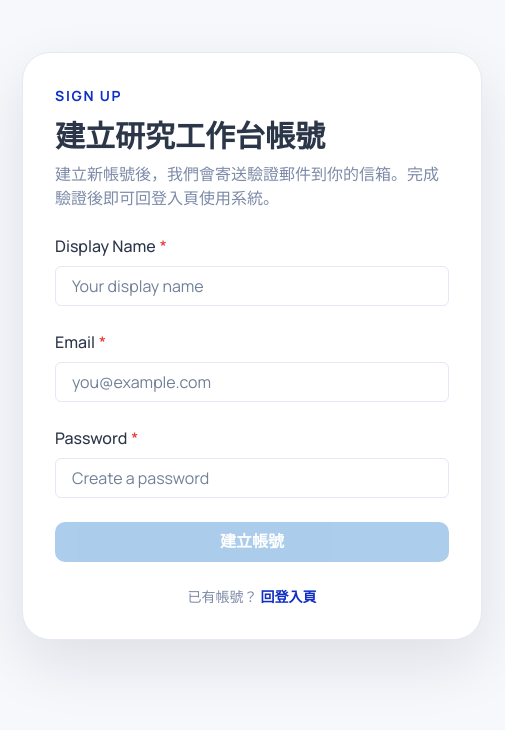
Test: Signup › submits signup with display name metadata and login redirect
The image size is (505, 730).
Type "Test User" into the field labelled "Display Name*" at (252, 286), box [55,266,449,306]
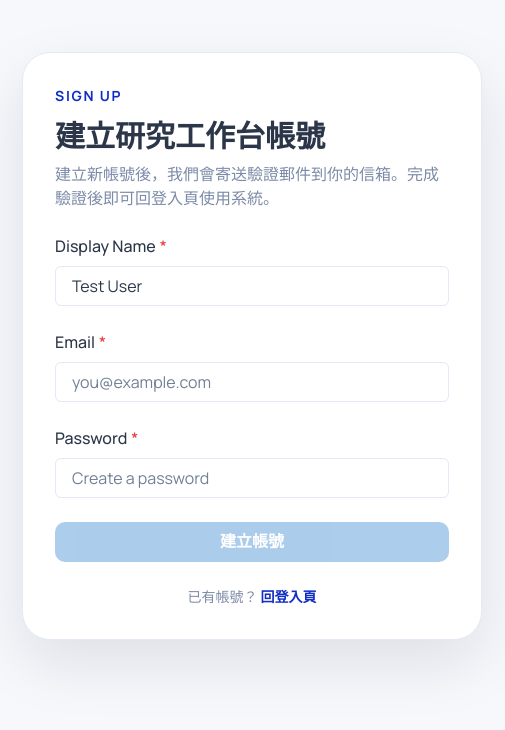
Type "user@example.com" into the field labelled "Email*" at (252, 382), box [55,362,449,402]
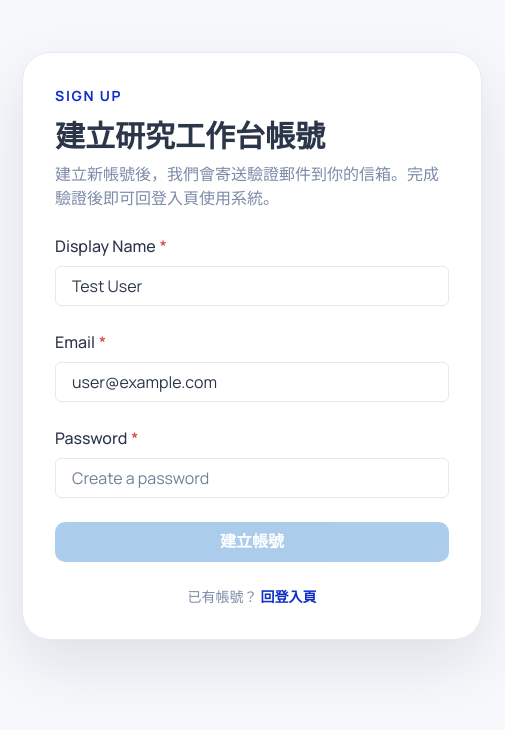
Type "secret-pass" into the password field labelled "Password*" at (252, 478), box [55,458,449,498]
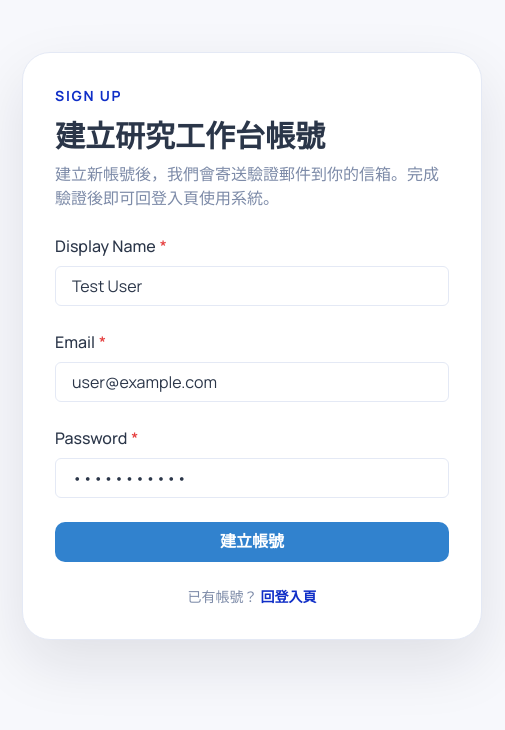
Click the button "建立帳號" at (252, 542), box [55,522,449,562]
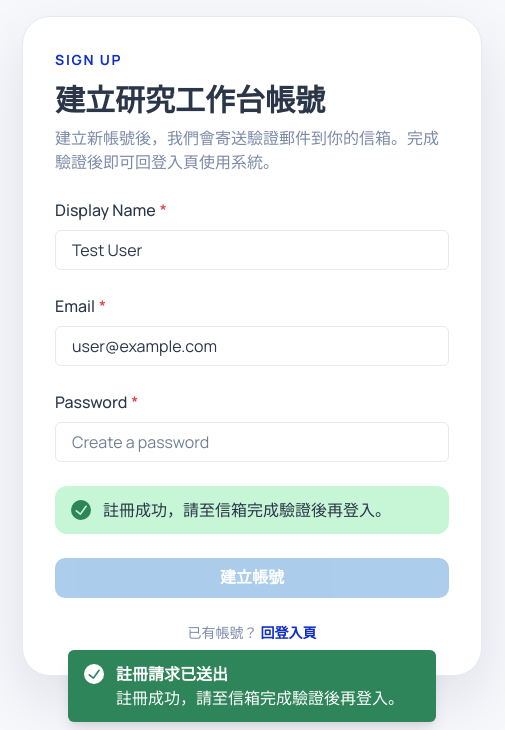
Check: the text "註冊成功，請至信箱完成驗證後再登入。" below "Password" is shown, box [103,499,391,521]
